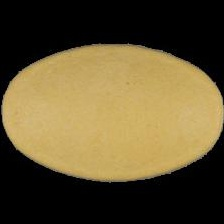54868-6038: (0, 0, 224, 224)
